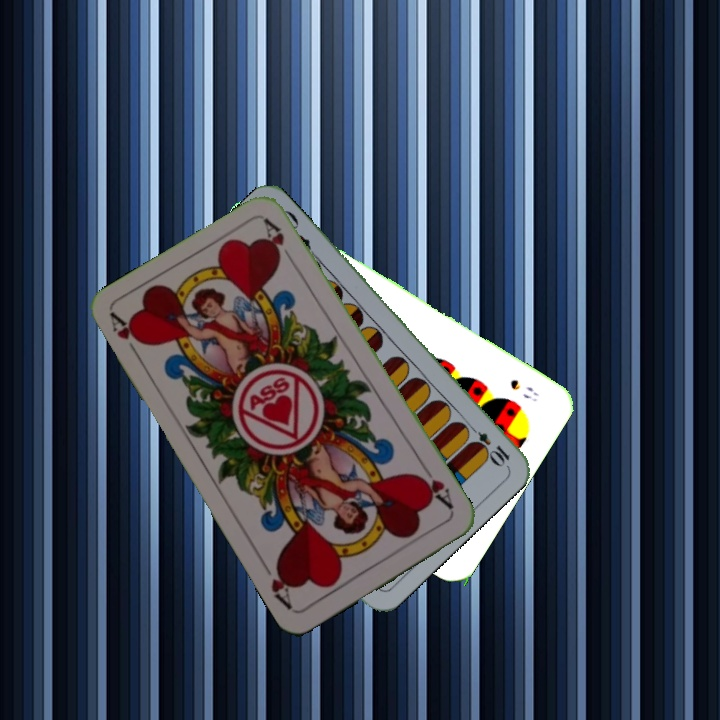E10: (463, 420, 513, 468)
HA: (412, 461, 457, 513), (106, 310, 147, 364)
S8: (506, 375, 540, 405)
